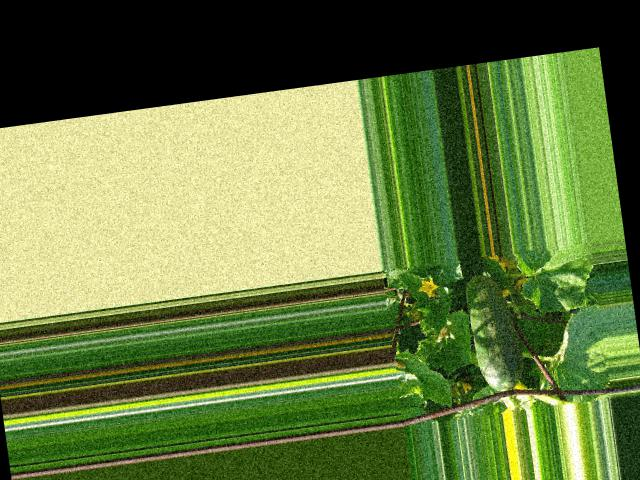cucumber: (463, 270, 528, 393)
